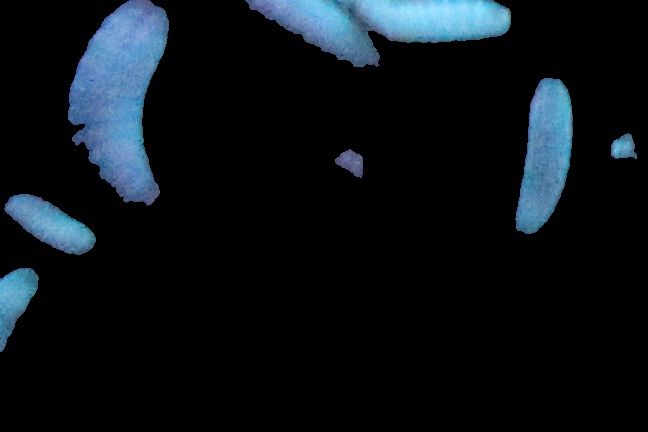larvae: (66, 1, 164, 219), (208, 1, 408, 89), (514, 75, 570, 233), (8, 196, 100, 254), (370, 1, 514, 37), (1, 264, 38, 377), (258, 1, 389, 2)
